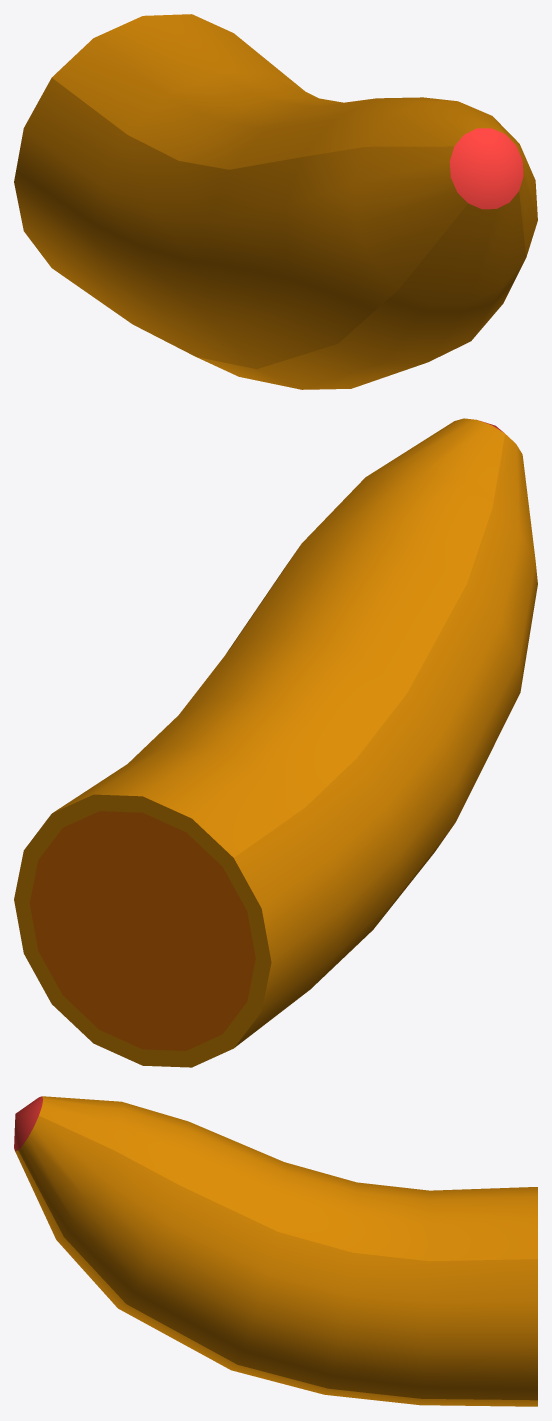
File: Half_a_banana_01.fbx
3 renders of one model, top to bottom at view 1: azimuth 30°, elevation 25°; view 2: azimuth 150°, elevation 25°; view 3: azimuth 270°, elevation 25°, orthographic. The views are drawn at different scales.
Parts seen in each view (by area): view 1: Half_a_banana_01; view 2: Half_a_banana_01; view 3: Half_a_banana_01.
Part boxes in pixels (x1,y1,x2,y2): Half_a_banana_01: (14, 14, 537, 389); Half_a_banana_01: (14, 418, 537, 1067); Half_a_banana_01: (14, 1096, 537, 1406).
Bounding box in the file's own units: 41.15 × 61.3 × 97.93.
